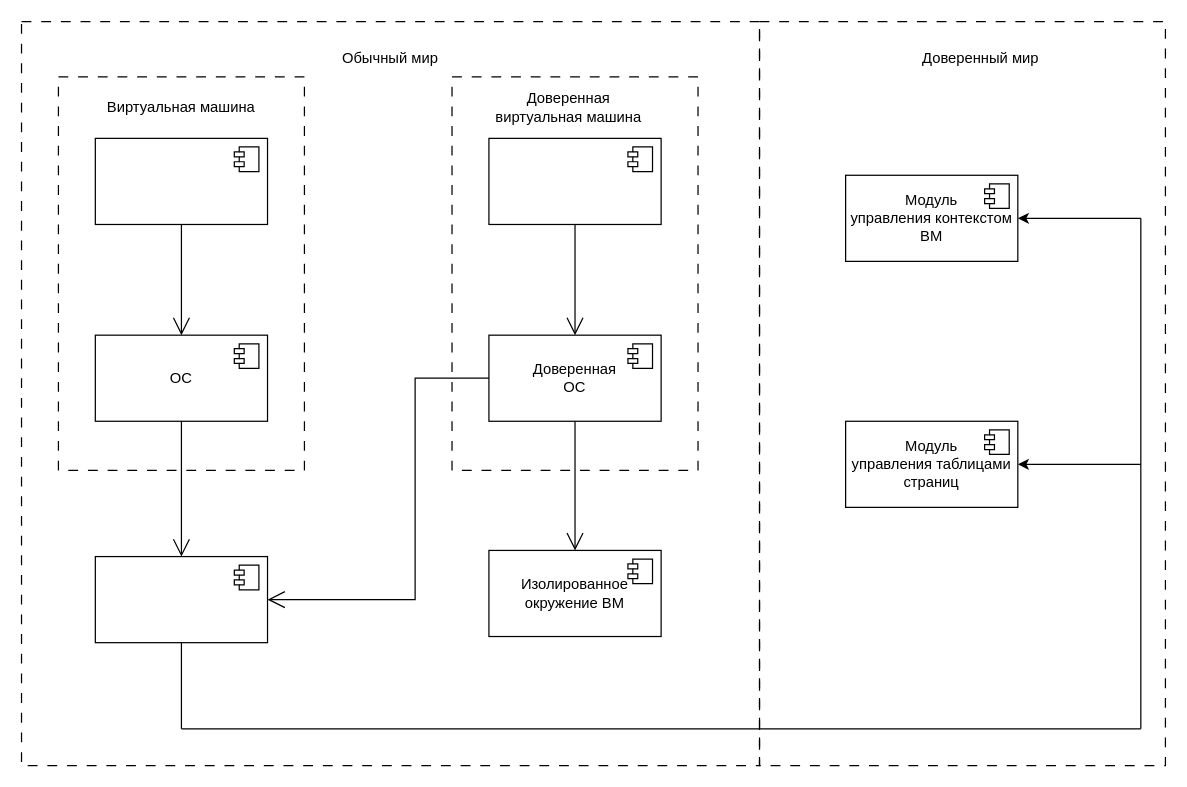
The diagram is 1187 pixels wide and 787 high, and some of its shapes have lost their labels. The centre of each missing label's shape, as x and y in pixels:
"Гипервизор" goes at [181,599].
"Доверенные приложения" goes at [574,180].
"Приложения" goes at [181,180].
